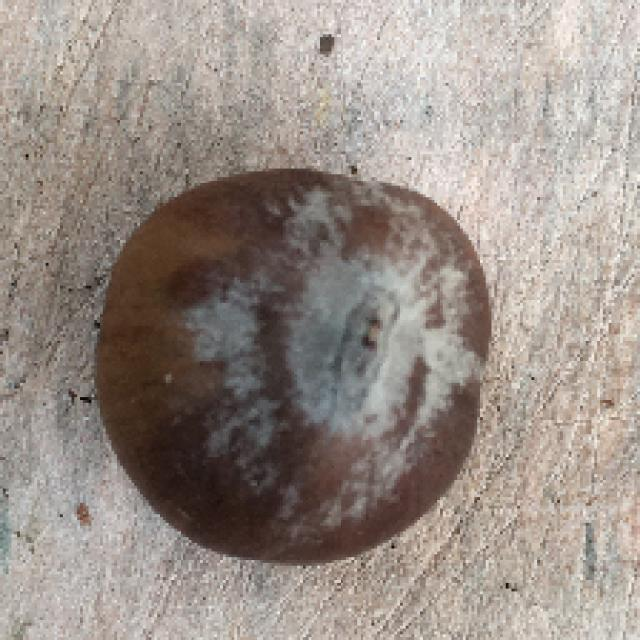damagedHazelnut: (97, 159, 496, 573)
